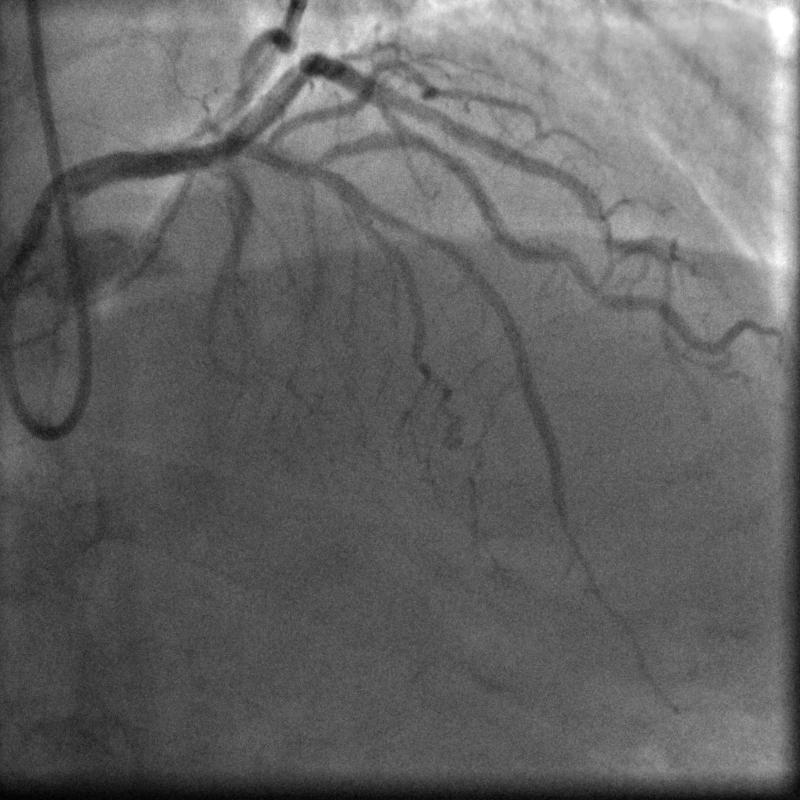Stenosis: (417, 128, 465, 169)
